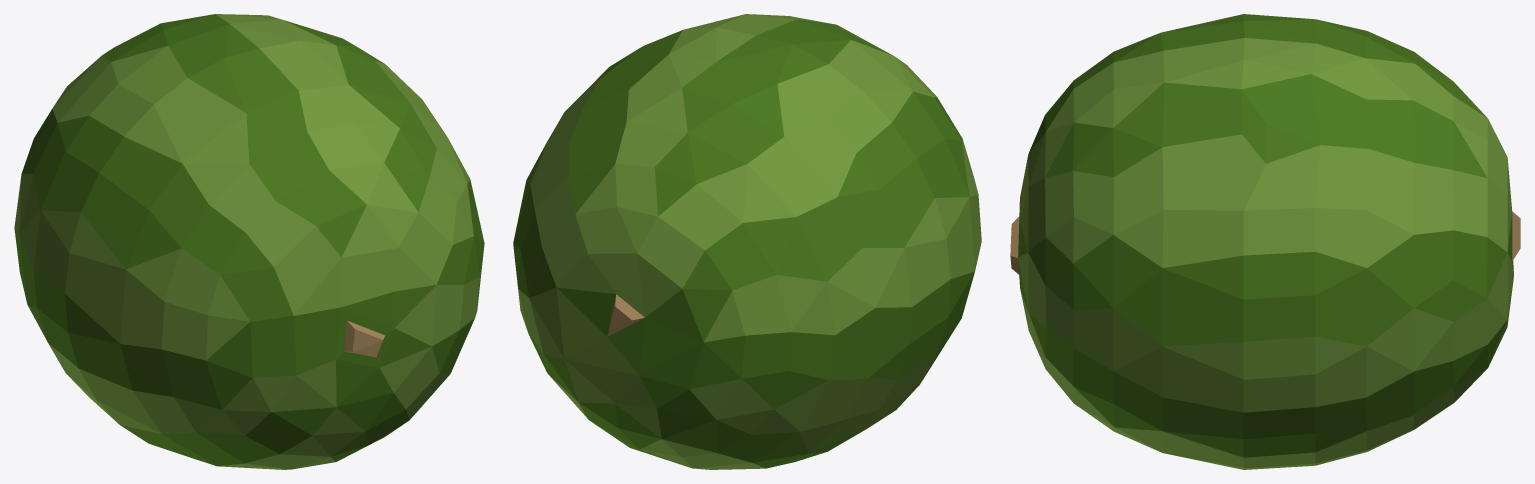
Rendered from watermelon.fbx.
3 views of the same model, side by side, from view 1: azimuth 30°, elevation 25°; view 2: azimuth 150°, elevation 25°; view 3: azimuth 270°, elevation 25° (orthographic). The views are drawn at different scales.
Parts seen in each view (by area): view 1: watermelon1, watermelon5, watermelon3, watermelon2, watermelon4, watermelon6, watermelon7, watermelon8; view 2: watermelon11, watermelon10, watermelon9, watermelon8, watermelon6, watermelon7, watermelon5, watermelon4; view 3: watermelon5, watermelon6, watermelon7, watermelon4, watermelon8, watermelon3, watermelon9, watermelon10, watermelon2, watermelon1, watermelon11.
Boxes of the visible parts, x1,y1,x2,y2 form: watermelon1: [250, 204, 464, 435]; watermelon5: [65, 41, 446, 465]; watermelon3: [161, 122, 484, 469]; watermelon2: [206, 162, 479, 456]; watermelon4: [120, 84, 484, 469]; watermelon6: [33, 19, 420, 423]; watermelon7: [19, 14, 280, 342]; watermelon8: [14, 14, 213, 303]; watermelon11: [529, 207, 745, 438]; watermelon10: [518, 163, 790, 456]; watermelon9: [513, 122, 834, 468]; watermelon8: [513, 87, 875, 469]; watermelon6: [567, 27, 950, 448]; watermelon7: [545, 54, 911, 468]; watermelon5: [684, 14, 974, 380]; watermelon4: [747, 14, 981, 270]; watermelon5: [1160, 14, 1244, 469]; watermelon6: [1241, 14, 1320, 469]; watermelon7: [1311, 19, 1368, 465]; watermelon4: [1113, 33, 1164, 452]; watermelon8: [1365, 31, 1415, 451]; watermelon3: [1073, 52, 1114, 431]; watermelon9: [1413, 52, 1454, 429]; watermelon10: [1452, 82, 1487, 401]; watermelon2: [1045, 81, 1074, 402]; watermelon1: [1010, 115, 1045, 368]; watermelon11: [1487, 119, 1520, 367].
Bounding box in the file's own units: 381 × 379 × 426.
